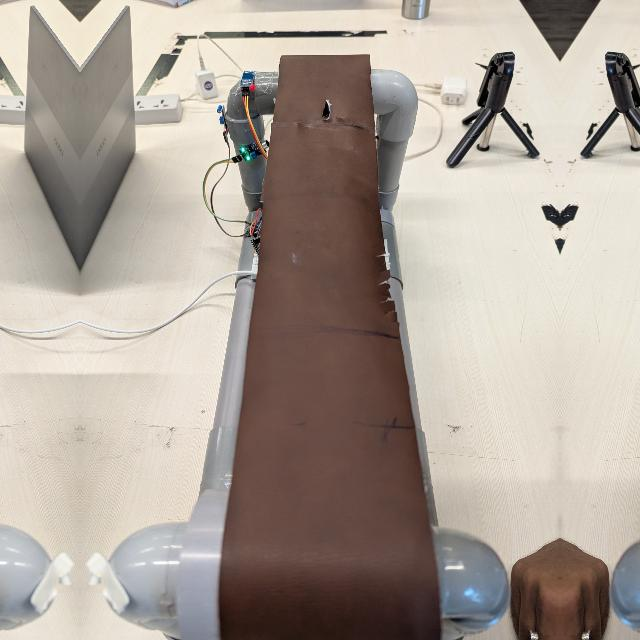edge_damage: (373, 241, 403, 334)
joint_damage: (312, 100, 340, 123)
